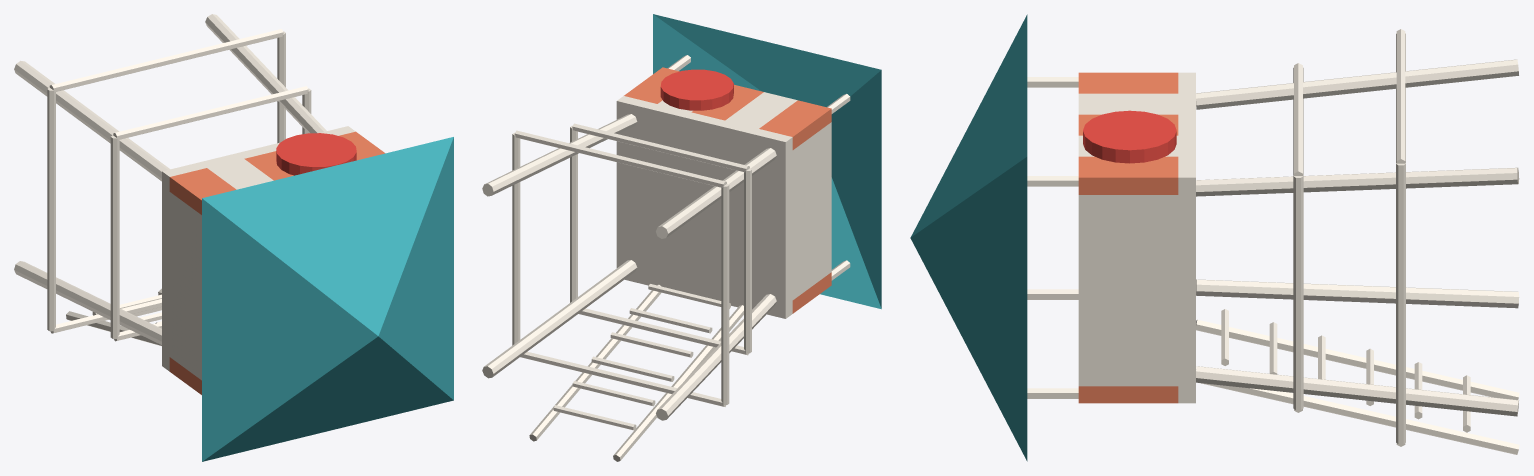
The model's file is vigie.glb.
3 renders of one model, left to right at view 1: azimuth 30°, elevation 25°; view 2: azimuth 150°, elevation 25°; view 3: azimuth 270°, elevation 25°, orthographic. The views are drawn at different scales.
Visible parts, largest first — view 1: toit, flanc, plancher, bouee, pied.001, pied, pied.003, traverse.003, traverse.002, traverse.007, traverse.006, rayure (+7 smaller); view 2: plancher, toit, flanc, pied.002, bouee, pied.003, pied, traverse.003, rayure, pied.001, traverse.001, traverse.002 (+17 smaller); view 3: toit, flanc.001, plancher, pied.001, pied.002, pied, pied.003, bouee, rayure.008, limon.001, limon, traverse.001 (+6 smaller).
Boxes of the visible parts, x1,y1,x2,y2 form: toit: (202,137,453,461); flanc: (169,192,201,380); plancher: (162,126,355,371); bouee: (276,133,356,175); pied.001: (14,60,169,181); pied: (14,261,161,344); pied.003: (205,14,326,133); traverse.003: (47,87,55,331); traverse.002: (49,29,283,91); traverse.007: (110,135,119,338); traverse.006: (113,86,308,139); rayure: (169,168,236,214); plancher: (616,96,792,318); toit: (653,14,881,309); flanc: (792,122,831,299); pied.002: (482,260,637,378); bouee: (660,69,733,110); pied.003: (482,114,637,196); pied: (656,294,776,420); traverse.003: (721,183,729,404); rayure: (759,100,831,149); pied.001: (656,148,776,238); traverse.001: (512,132,520,345); traverse.002: (514,130,726,187); toit: (910,14,1027,461); flanc.001: (1078,195,1178,386); plancher: (1178,72,1195,403); pied.001: (1196,59,1518,109); pied.002: (1196,366,1518,416); pied: (1196,279,1519,308); pied.003: (1196,167,1519,196); bouee: (1083,110,1176,163); rayure.008: (1078,156,1178,194); limon.001: (1200,383,1519,454); limon: (1196,319,1519,399); traverse.001: (1396,163,1405,444).
Size of the model in its own units: 2.3 by 2.59 by 4.16.
